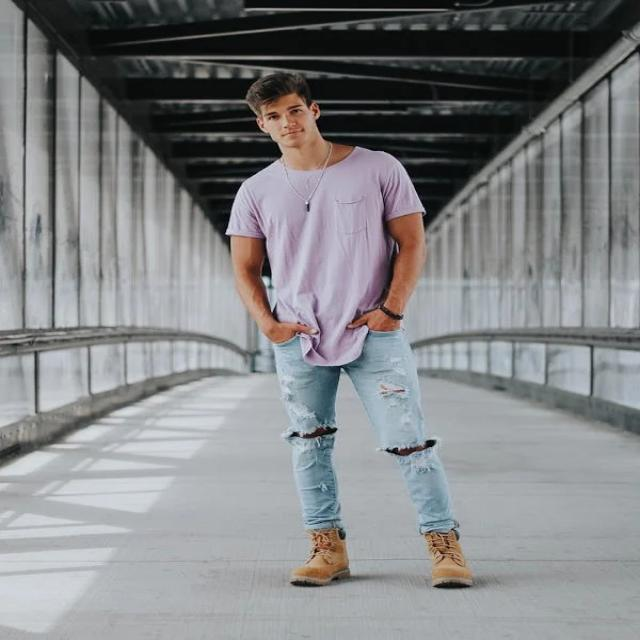Real human 2: (206, 57, 508, 598)
